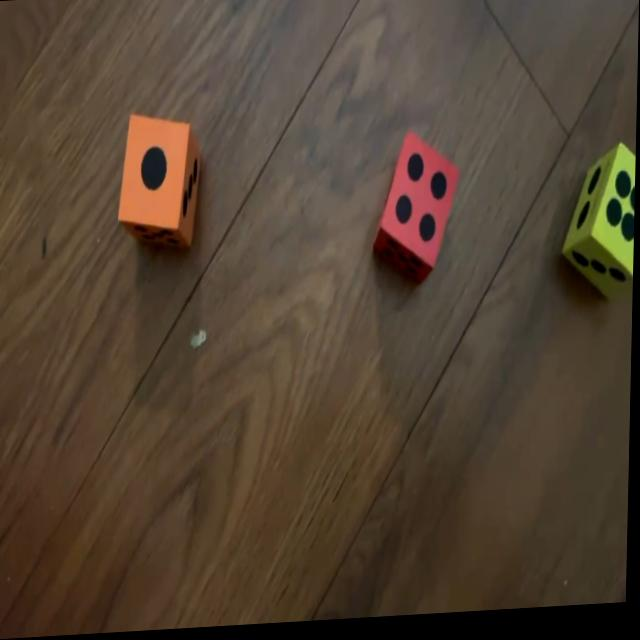cube: (370, 133, 460, 294)
